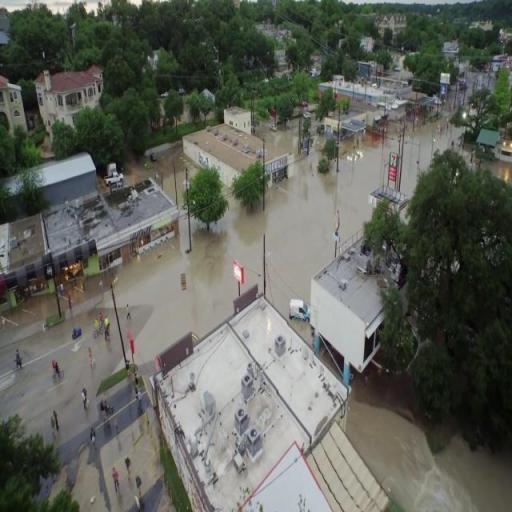flood: (109, 136, 403, 376), (0, 273, 123, 444), (347, 399, 512, 512), (399, 63, 512, 195), (124, 142, 199, 208), (256, 118, 298, 154), (310, 120, 324, 152)
house: (159, 296, 384, 512), (4, 151, 98, 299), (310, 248, 392, 382), (82, 182, 180, 276), (183, 122, 266, 200), (40, 62, 102, 131), (324, 81, 392, 112), (0, 75, 29, 128), (320, 106, 368, 136), (224, 106, 252, 137), (475, 126, 502, 158), (357, 58, 376, 81)
